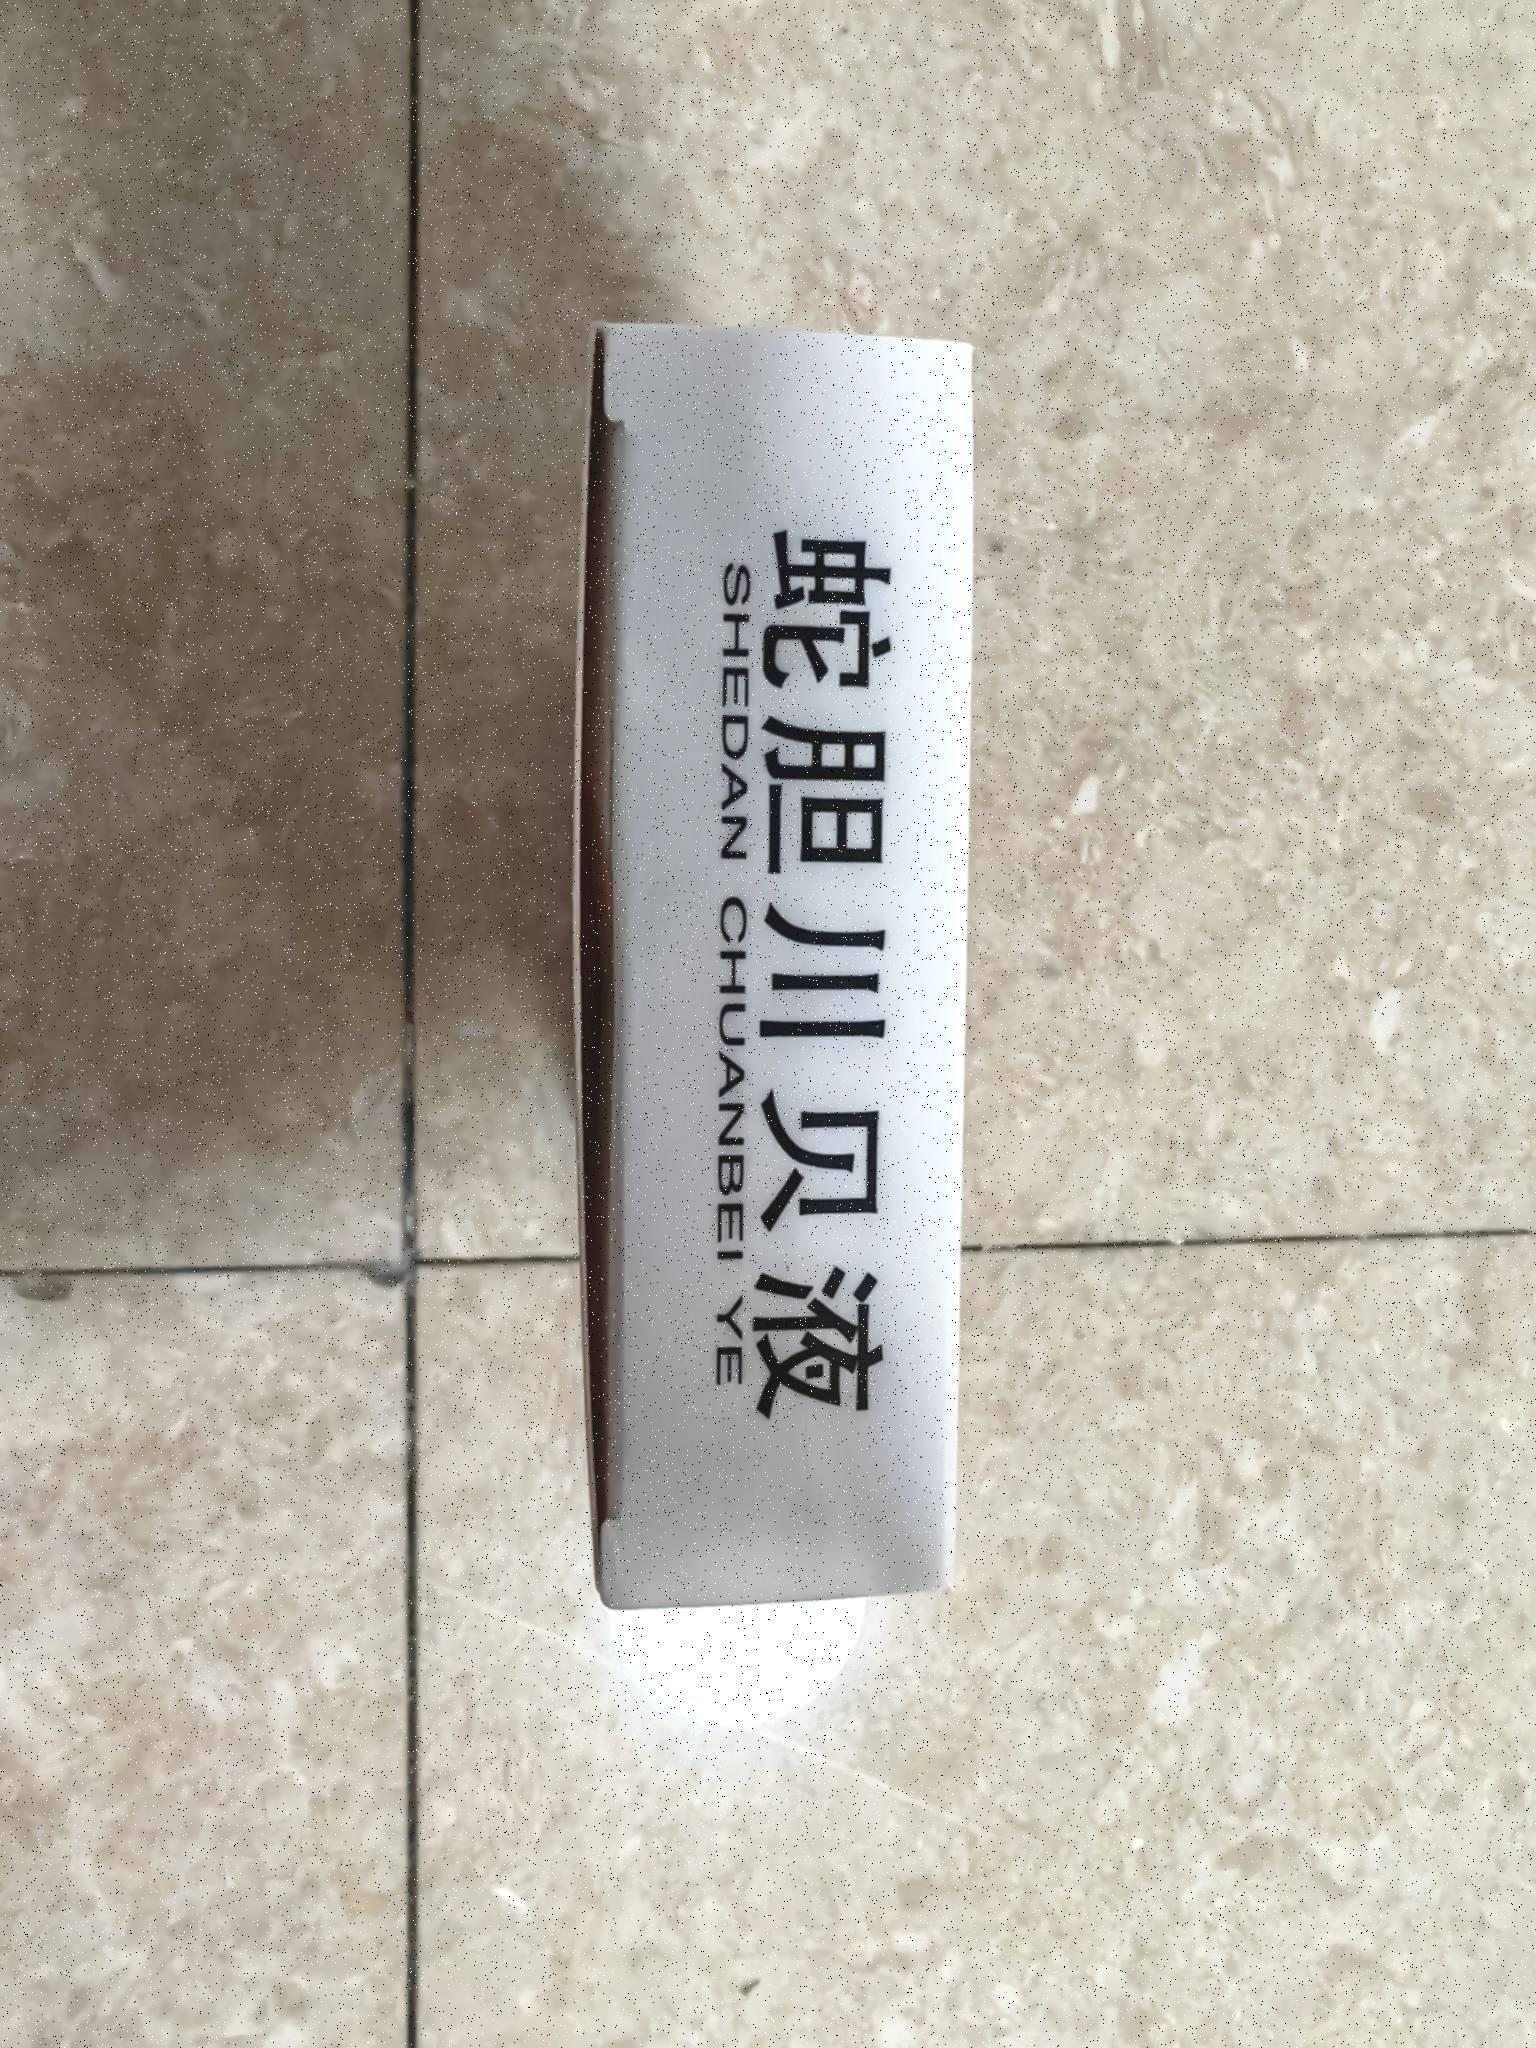Medicine5: (542, 282, 1018, 1645)
